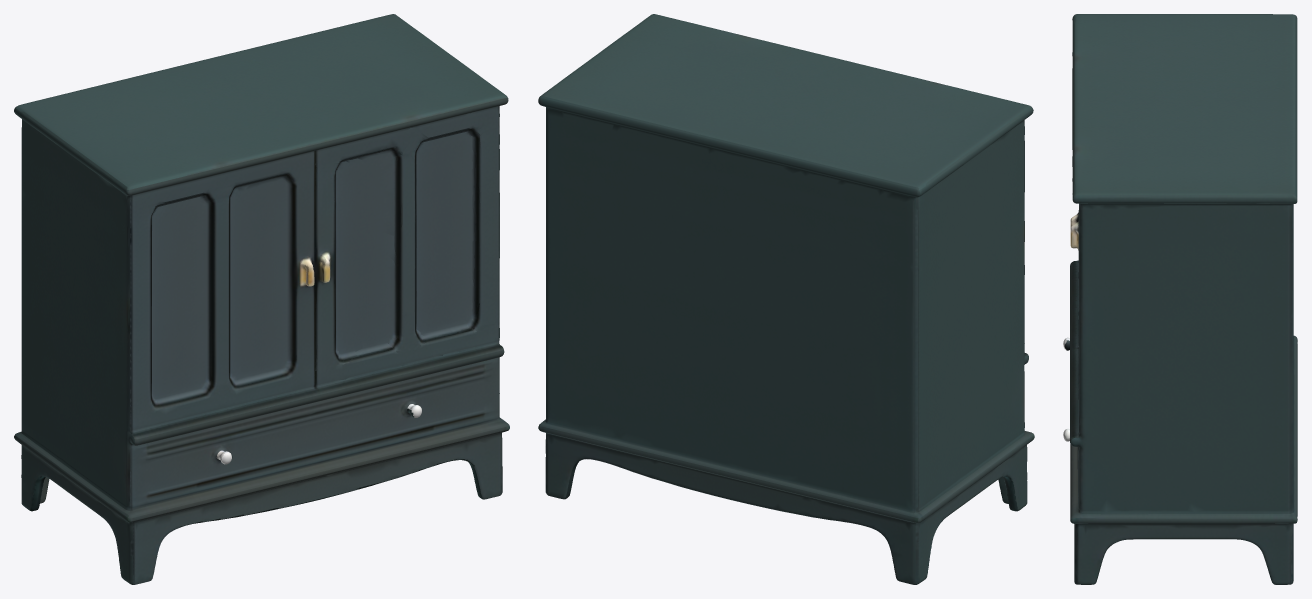
The model's file is cabinet__cabinet#5.glb.
The picture shows the model from 3 angles, left to right: view 1: azimuth 30°, elevation 25°; view 2: azimuth 150°, elevation 25°; view 3: azimuth 270°, elevation 25°; orthographic projection.
Parts seen in each view (by area): view 1: tmpeynp_hc6.ply; view 2: tmpeynp_hc6.ply; view 3: tmpeynp_hc6.ply.
Part boxes in pixels (x1,y1,x2,y2): tmpeynp_hc6.ply: (14,14,509,584); tmpeynp_hc6.ply: (538,14,1034,584); tmpeynp_hc6.ply: (1063,14,1297,584).
Bounding box in the file's own units: 1.99 × 1.99 × 1.07.
Materials: 1 (1 with a texture image).
